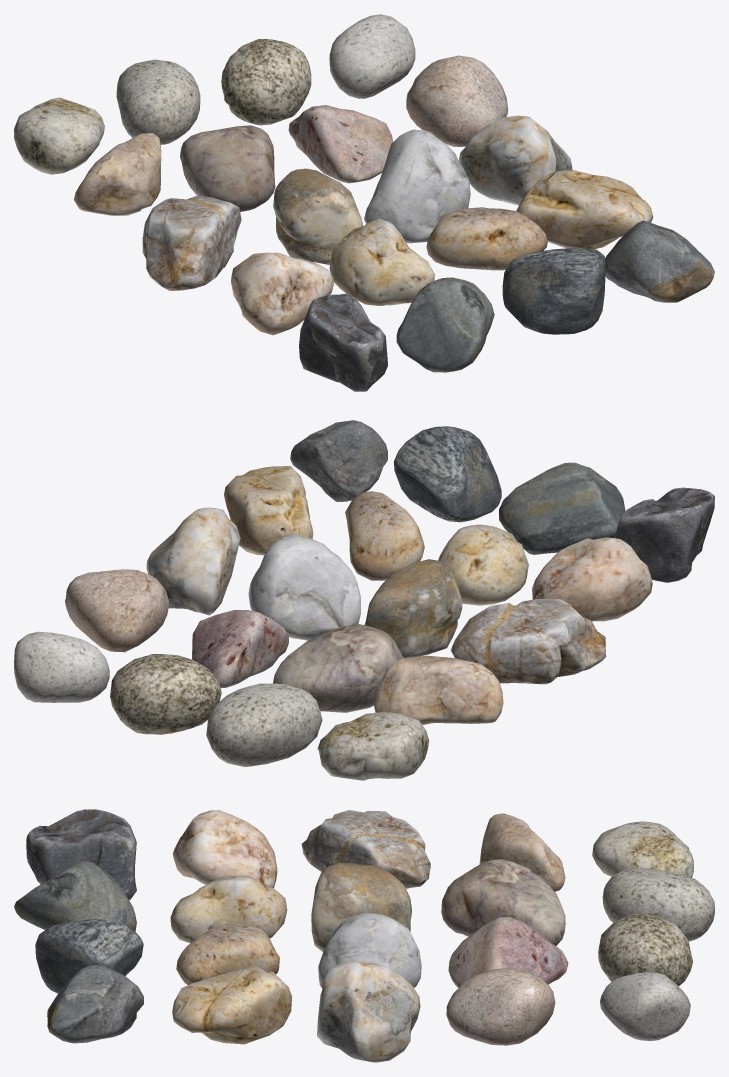
Rendered from pebbles.glb.
The picture shows the model from 3 angles, top to bottom: view 1: azimuth 30°, elevation 25°; view 2: azimuth 150°, elevation 25°; view 3: azimuth 270°, elevation 25°; orthographic projection. The views are drawn at different scales.
Visible parts, largest first — view 1: Pebbles; view 2: Pebbles; view 3: Pebbles.
Boxes of the visible parts, bbox=[...] form: Pebbles: bbox=[14, 14, 714, 391]; Pebbles: bbox=[14, 420, 714, 780]; Pebbles: bbox=[14, 809, 714, 1062].
Size of the model in its own units: 0.6168 by 0.1252 by 0.8879.
20 materials, 20 textured.
